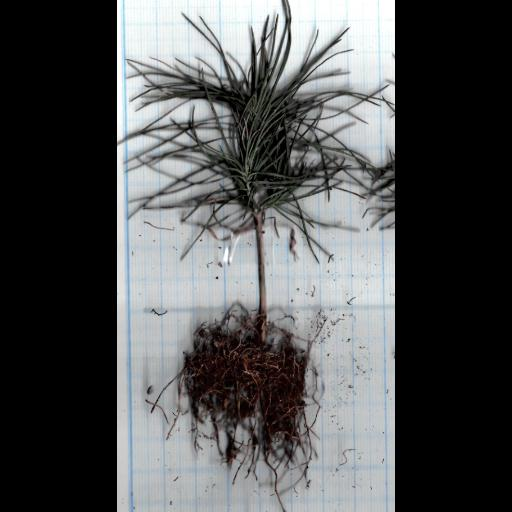flowerCedr: (119, 1, 381, 252)
rootCedr: (151, 309, 321, 511)
stemCedr: (255, 213, 267, 340)
